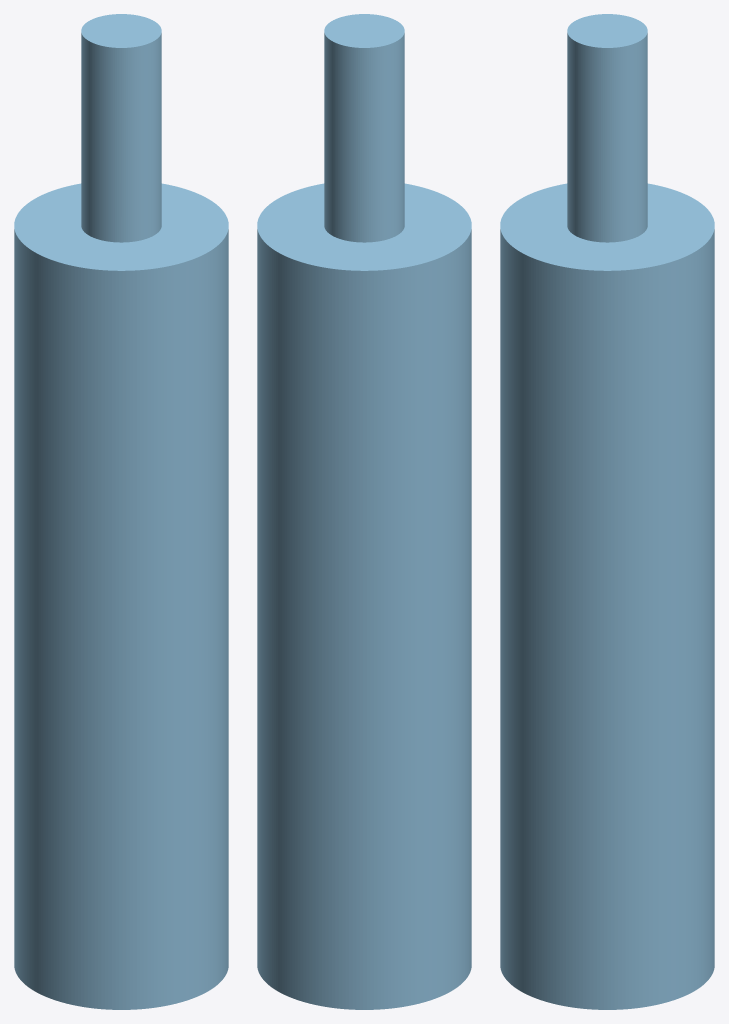
File: wine-bottle.dae
3 renders of one model, left to right at view 1: azimuth 30°, elevation 25°; view 2: azimuth 150°, elevation 25°; view 3: azimuth 270°, elevation 25°, orthographic.
Parts seen in each view (by area): view 1: 5c86a18174c1b61d4c546f98; view 2: 5c86a18174c1b61d4c546f98; view 3: 5c86a18174c1b61d4c546f98.
Boxes of the visible parts, x1=… form: 5c86a18174c1b61d4c546f98: x1=14, y1=14, x2=228, y2=1009; 5c86a18174c1b61d4c546f98: x1=257, y1=14, x2=471, y2=1009; 5c86a18174c1b61d4c546f98: x1=500, y1=14, x2=714, y2=1009.
Size of the model in its own units: 0.08 by 0.08 by 0.384.
